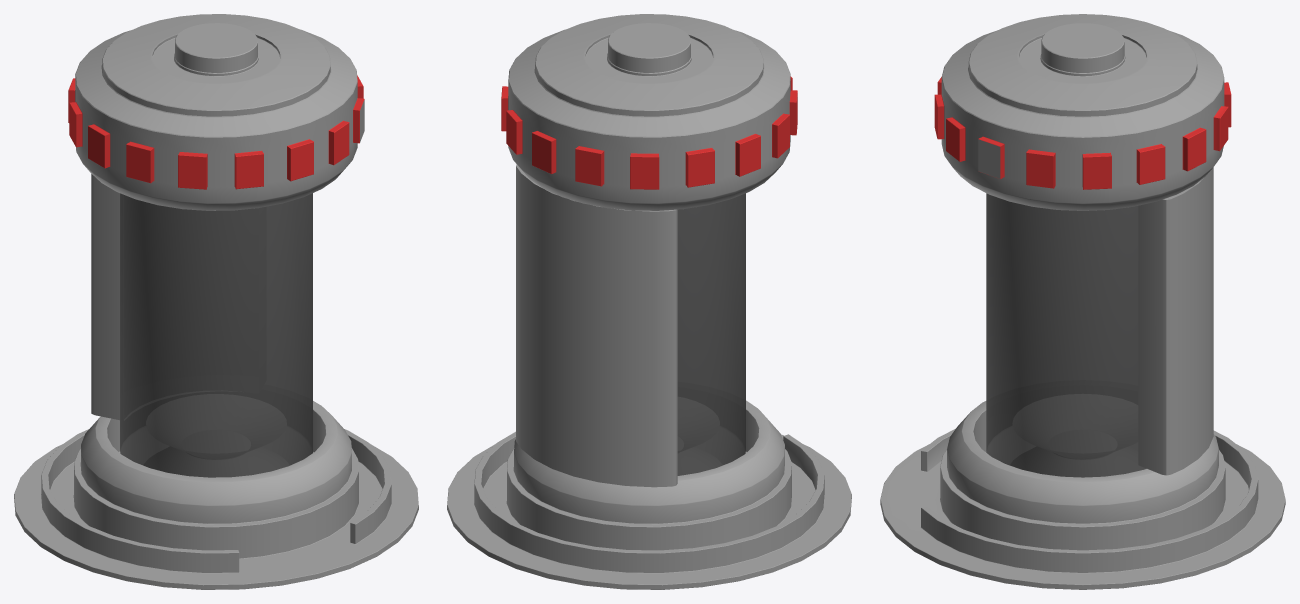
The model's file is Capsul.fbx.
The picture shows the model from 3 angles, left to right: view 1: azimuth 30°, elevation 25°; view 2: azimuth 150°, elevation 25°; view 3: azimuth 270°, elevation 25°; orthographic projection.
Visible parts, largest first — view 1: Cylinder.003; view 2: Cylinder.003; view 3: Cylinder.003.
Part boxes in pixels (box(x1,y1,x2,y2)): Cylinder.003: box(14, 14, 418, 589); Cylinder.003: box(447, 14, 851, 589); Cylinder.003: box(880, 14, 1285, 589).
Bounding box in the file's own units: 4669 × 5896 × 4669.
